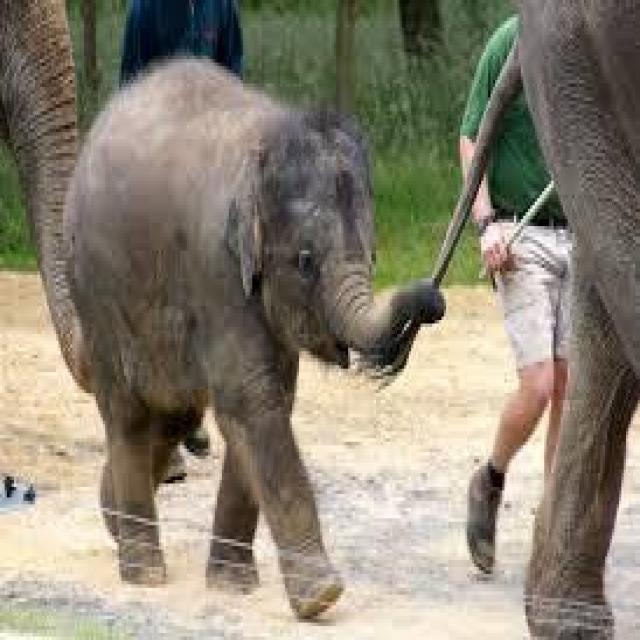Elephant: (63, 49, 442, 616)
